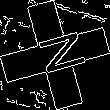N_W: (25, 29, 85, 81)
